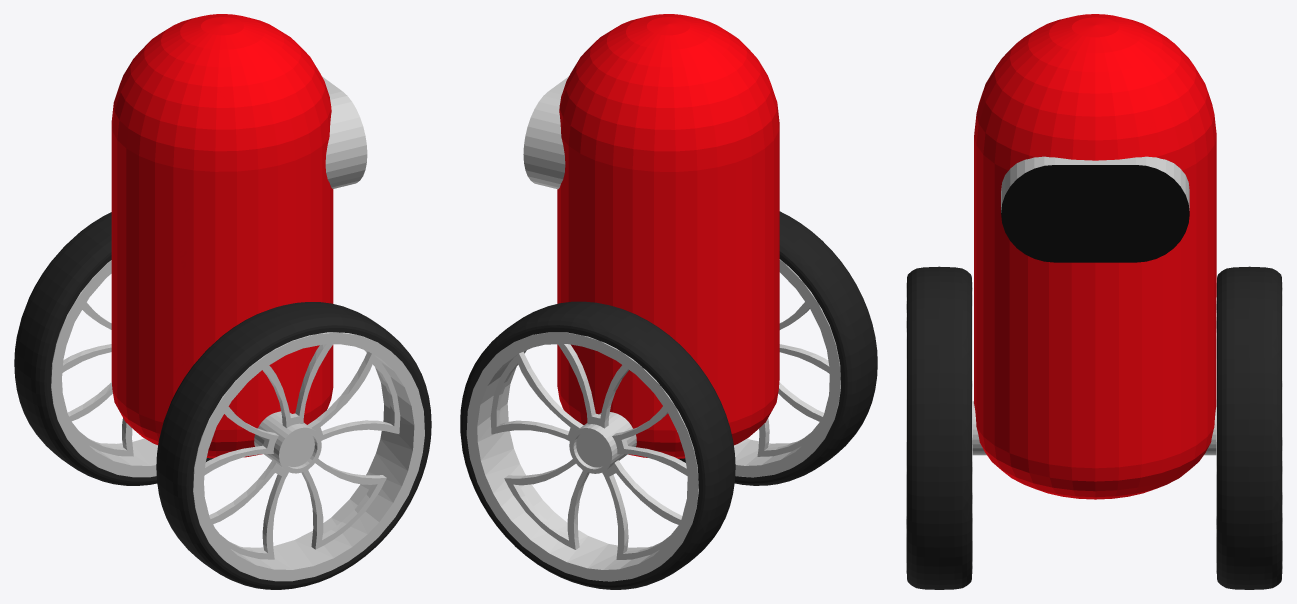
File: robot.fbx
3 renders of one model, left to right at view 1: azimuth 30°, elevation 25°; view 2: azimuth 150°, elevation 25°; view 3: azimuth 270°, elevation 25°, orthographic. The views are drawn at different scales.
Parts seen in each view (by area): view 1: Sphere, tire.002, tire.007, wheel int.007, Cylinder.012, Cylinder.013, wheel int.008; view 2: Sphere, tire.007, tire.002, wheel int.008, Cylinder.012, Cylinder.014, wheel int.007; view 3: Sphere, tire.002, tire.007, Cylinder.012, Cylinder.002.
Part boxes in pixels (x1,y1,x2,y2): Sphere: (111,14,333,458); tire.002: (156,302,431,589); tire.007: (14,212,212,485); wheel int.007: (204,344,400,559); Cylinder.012: (322,76,367,188); Cylinder.013: (256,411,321,473); wheel int.008: (62,302,133,456); Sphere: (557,14,779,458); tire.007: (460,301,735,589); tire.002: (679,211,877,485); wheel int.008: (490,344,687,559); Cylinder.012: (523,76,568,189); Cylinder.014: (569,412,634,473); wheel int.007: (757,302,829,456); Sphere: (974,14,1216,499); tire.002: (906,266,972,589); tire.007: (1216,266,1282,589); Cylinder.012: (1001,156,1189,262); Cylinder.002: (973,403,1216,455).
Size of the model in its own units: 240 by 450 by 279.
